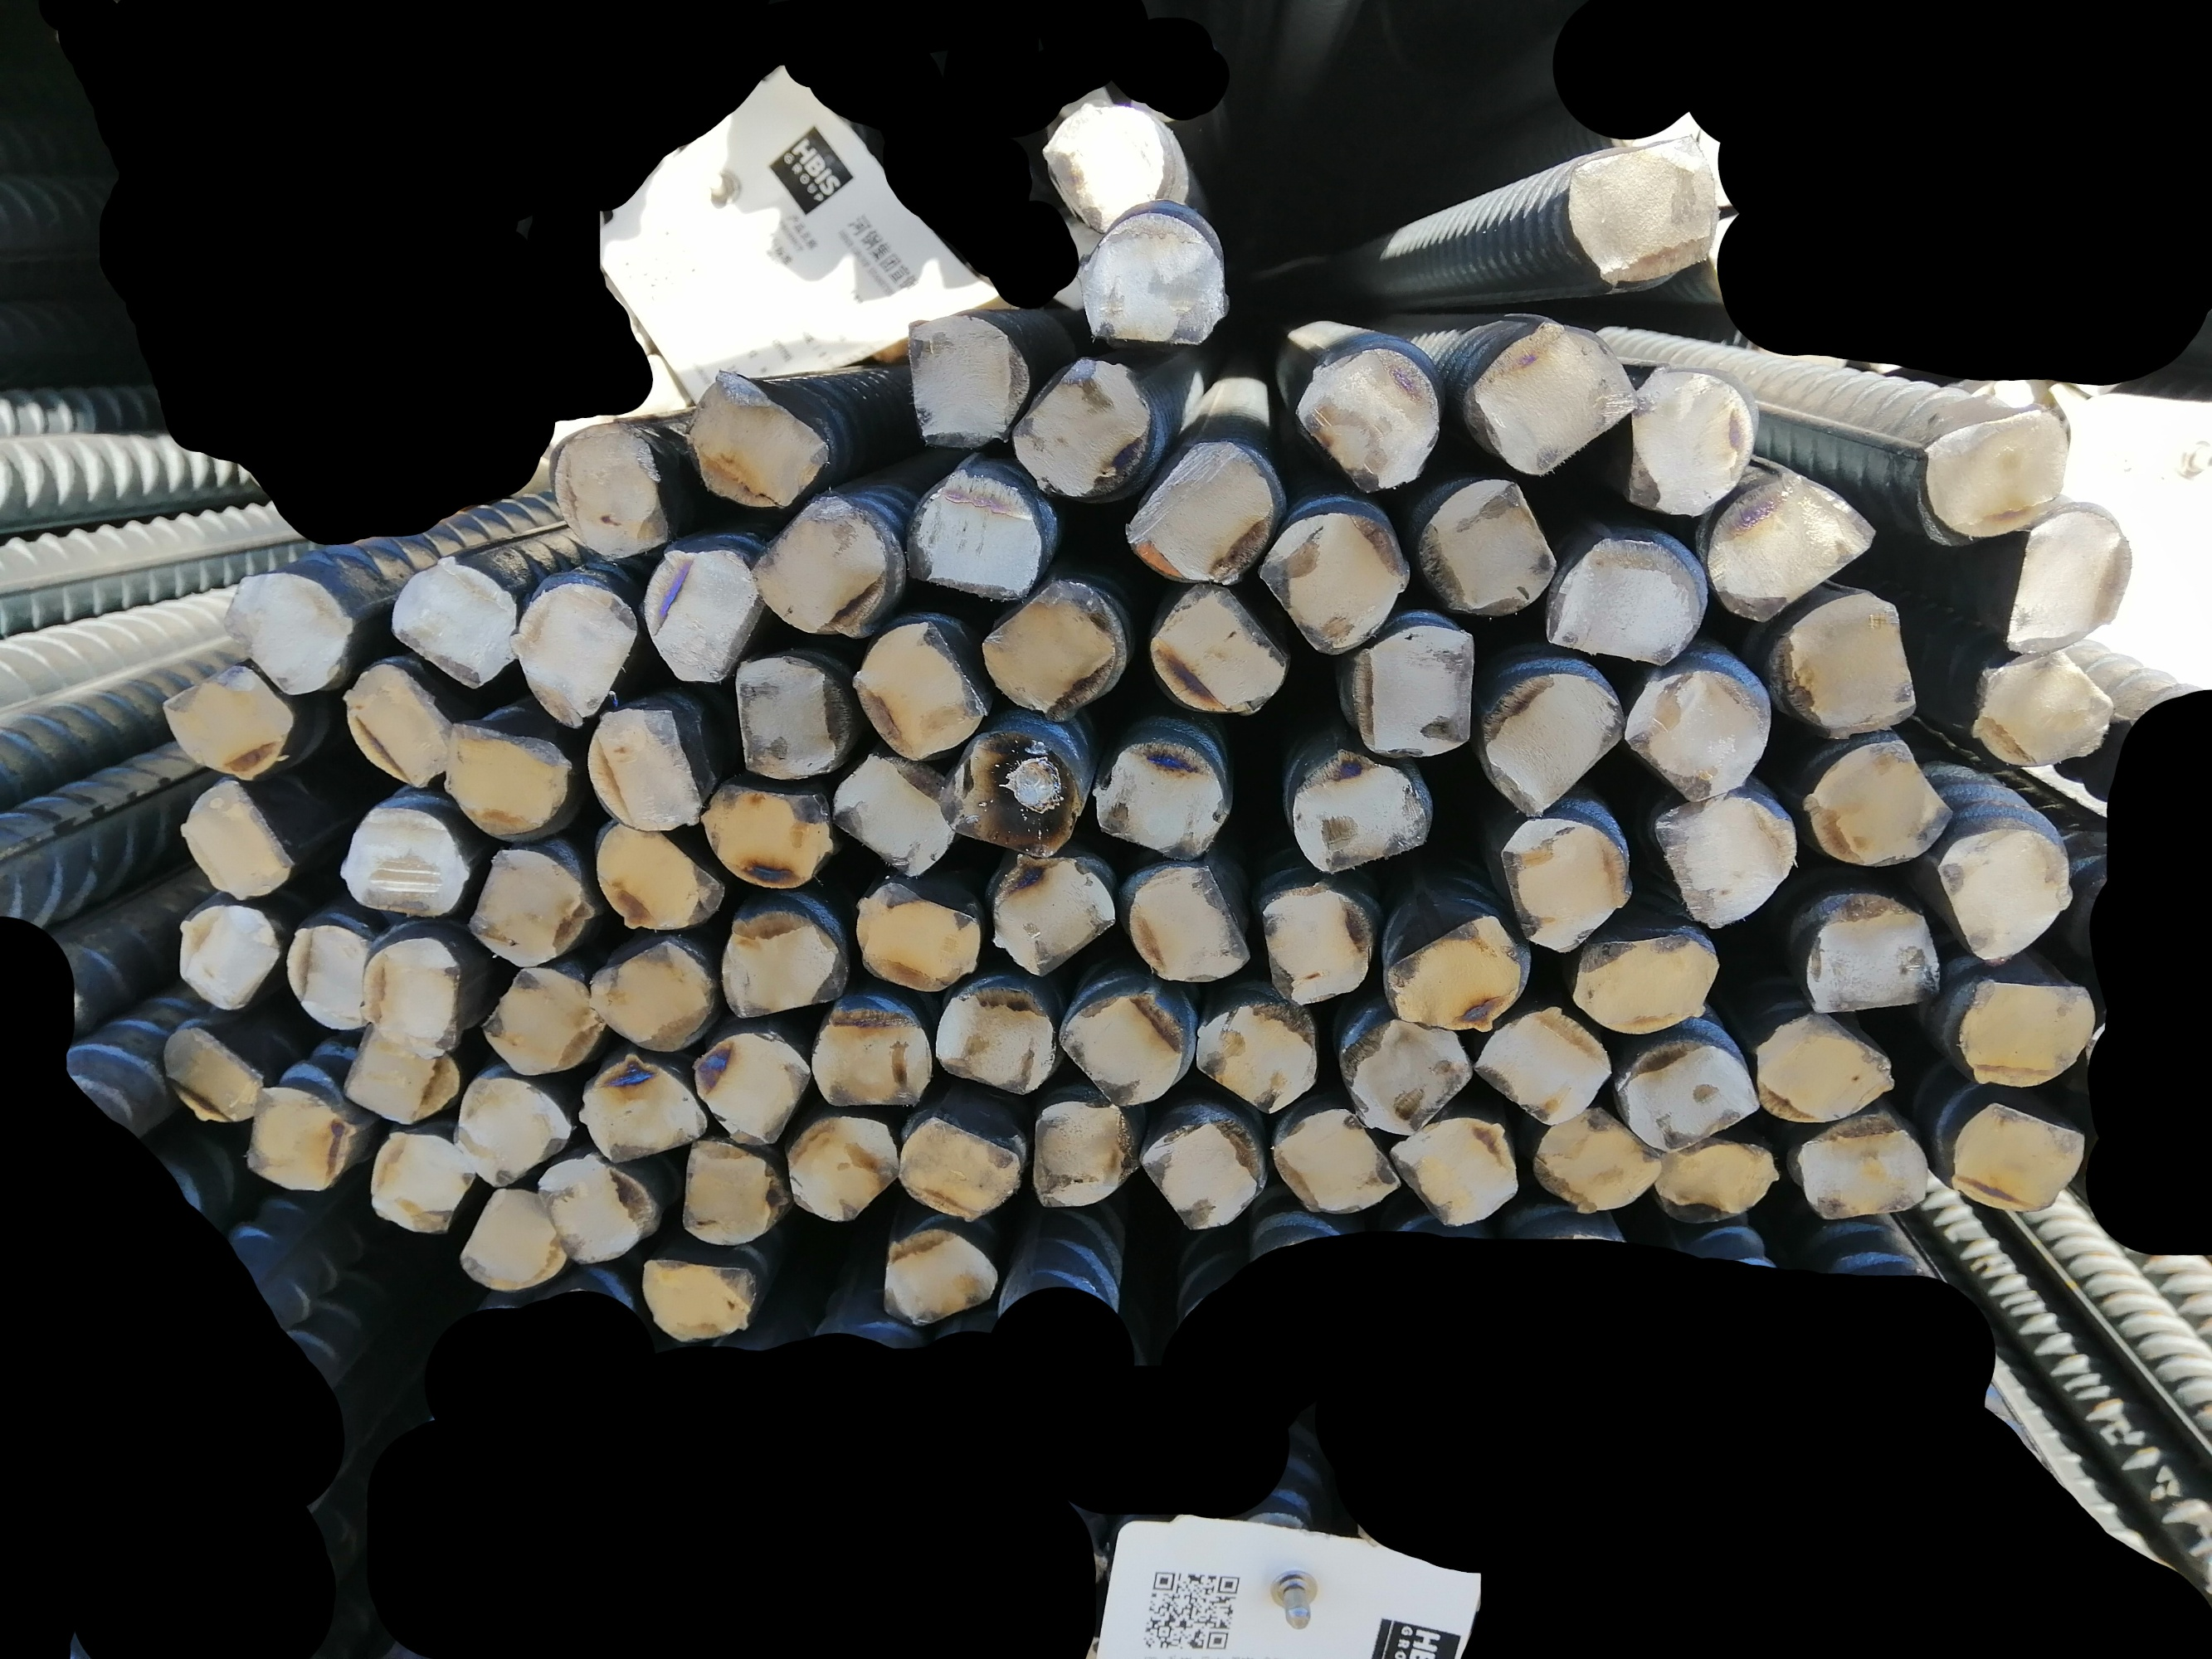rebar: (1459, 308, 1640, 477), (1710, 462, 1883, 627), (1557, 125, 1726, 286), (1252, 495, 1410, 666), (1625, 349, 1764, 528), (1537, 525, 1706, 669), (1783, 579, 1928, 744), (1290, 342, 1442, 497), (1009, 349, 1159, 505), (1475, 657, 1623, 816), (1626, 650, 1774, 807), (683, 366, 833, 519), (1123, 436, 1269, 592), (1917, 394, 2071, 542), (1065, 213, 1236, 345), (743, 495, 892, 641), (1987, 512, 2137, 657), (1659, 786, 1804, 932), (980, 579, 1130, 720), (910, 458, 1046, 612), (849, 617, 992, 762), (1792, 882, 1940, 1019), (1285, 746, 1435, 882), (1428, 467, 1562, 619), (1494, 810, 1632, 957), (1804, 732, 1956, 864), (1938, 816, 2074, 962), (633, 540, 765, 688), (1616, 1030, 1766, 1161), (1564, 920, 1724, 1042), (511, 570, 636, 725), (1060, 976, 1192, 1121), (1152, 584, 1290, 721), (387, 551, 521, 692), (1347, 612, 1475, 758), (901, 308, 1034, 448), (1964, 647, 2114, 769), (432, 716, 577, 842), (551, 418, 675, 563), (573, 814, 722, 934), (1754, 1007, 1902, 1127), (1335, 1007, 1471, 1138), (1253, 877, 1381, 1016), (1952, 1093, 2092, 1220), (1949, 974, 2095, 1094), (1386, 908, 1520, 1037), (1093, 734, 1236, 854), (938, 734, 1077, 856), (227, 565, 352, 699), (709, 901, 849, 1021), (1123, 857, 1253, 985), (1480, 1000, 1616, 1122), (1523, 1107, 1666, 1222), (723, 648, 851, 777), (828, 753, 957, 880), (465, 842, 596, 967), (580, 702, 706, 833), (157, 666, 295, 784), (992, 857, 1123, 981), (1039, 98, 1161, 230), (1788, 1110, 1935, 1220), (704, 770, 830, 897), (1137, 1112, 1265, 1236), (587, 938, 720, 1056), (894, 1112, 1030, 1227), (933, 971, 1055, 1098), (342, 802, 471, 922), (340, 653, 455, 788), (849, 882, 983, 997), (533, 1152, 659, 1274), (1398, 1110, 1522, 1232), (1021, 1089, 1140, 1216), (178, 779, 295, 908), (812, 995, 940, 1112), (481, 967, 607, 1084), (1199, 1000, 1327, 1114), (453, 1072, 575, 1188), (1274, 1107, 1400, 1220), (575, 1051, 708, 1157), (694, 1030, 811, 1148), (462, 1182, 582, 1297), (155, 1016, 270, 1134), (669, 1129, 777, 1251), (169, 904, 284, 1016), (788, 1115, 899, 1227), (357, 932, 460, 1053), (880, 1225, 1002, 1326), (246, 1084, 352, 1199), (286, 913, 377, 1046), (1656, 1134, 1780, 1230), (370, 1121, 474, 1234), (342, 1032, 467, 1126), (638, 1256, 758, 1342)
